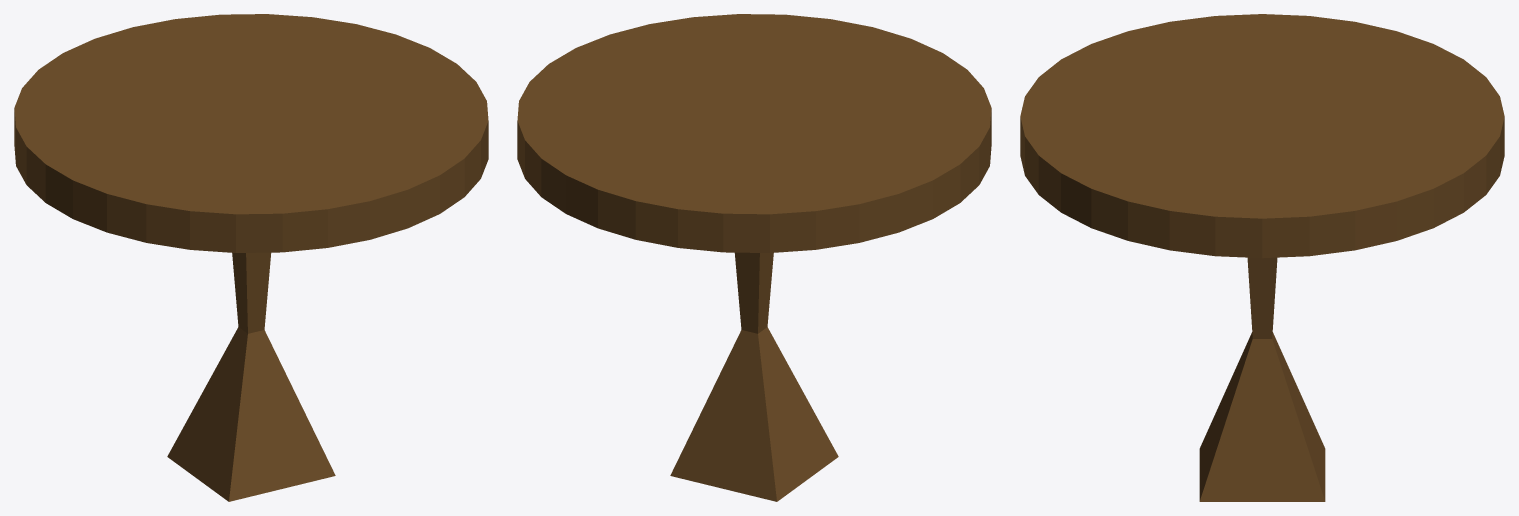
File: table.glb
The picture shows the model from 3 angles, left to right: view 1: azimuth 30°, elevation 25°; view 2: azimuth 150°, elevation 25°; view 3: azimuth 270°, elevation 25°; orthographic projection.
Visible parts, largest first — view 1: Table; view 2: Table; view 3: Table.
Part boxes in pixels (bbox=[...]): Table: bbox=[14, 14, 488, 501]; Table: bbox=[517, 14, 991, 501]; Table: bbox=[1020, 14, 1504, 501].
Size of the model in its own units: 5.12 by 4.19 by 5.12.
